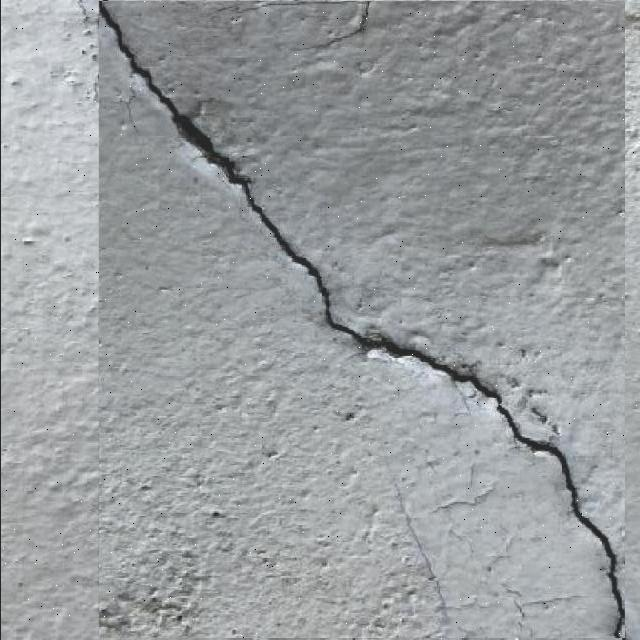crack: (97, 1, 627, 638), (119, 19, 366, 367), (109, 531, 442, 635), (234, 6, 414, 197), (320, 106, 473, 245), (4, 203, 96, 388), (385, 188, 567, 266), (95, 16, 115, 629), (464, 2, 615, 74), (451, 235, 576, 315), (84, 73, 105, 382), (400, 6, 506, 65), (74, 5, 106, 106), (94, 14, 133, 84), (233, 0, 364, 16), (139, 593, 192, 632), (125, 69, 165, 115), (296, 54, 356, 84), (189, 95, 234, 128), (18, 214, 60, 245), (59, 64, 89, 95), (349, 1, 371, 38), (359, 63, 381, 80), (624, 1, 640, 20), (214, 401, 231, 412), (230, 15, 245, 25), (319, 557, 329, 568), (10, 78, 21, 87), (140, 484, 152, 492), (120, 123, 130, 132), (82, 29, 93, 37), (157, 286, 171, 292)
dampens: (170, 108, 246, 182), (172, 111, 208, 144), (117, 90, 140, 133), (173, 97, 208, 123), (77, 1, 100, 23), (616, 208, 625, 216)
dampness: (3, 281, 99, 640)
